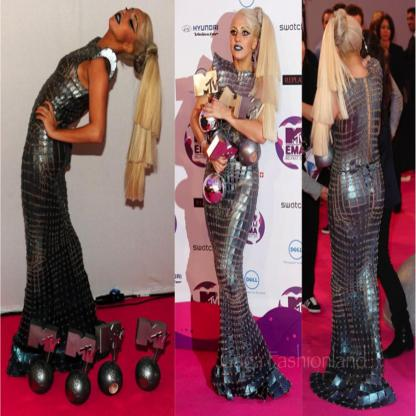face: (111, 8, 145, 44), (231, 18, 254, 60), (381, 23, 392, 41), (324, 18, 335, 35), (409, 15, 416, 32)
